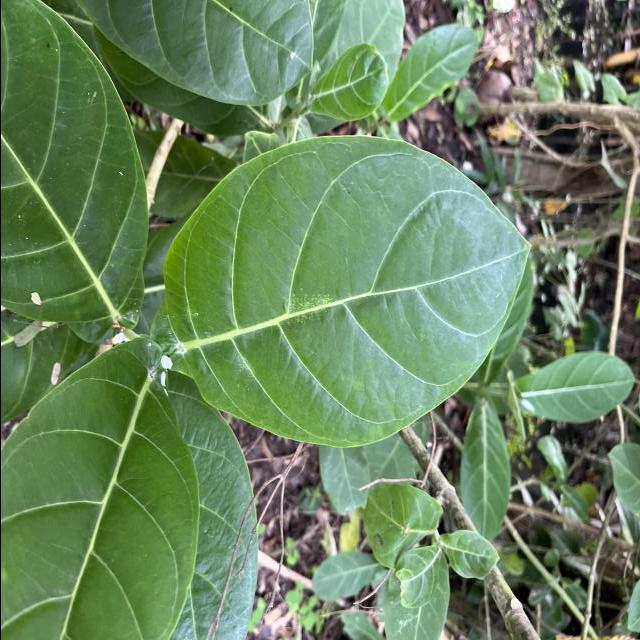Calotropis gigantea: (157, 129, 534, 450), (0, 337, 202, 638), (0, 0, 150, 345), (380, 22, 480, 125), (518, 347, 636, 424), (458, 399, 512, 542)
